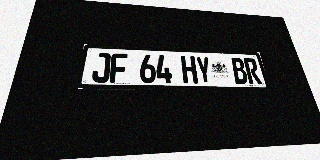4: (156, 55, 172, 83)
6: (140, 54, 156, 83)
B: (230, 58, 249, 84)
F: (109, 53, 127, 83)
H: (181, 56, 198, 83)
J: (91, 52, 111, 83)
R: (243, 58, 262, 84)
Y: (195, 56, 213, 84)
